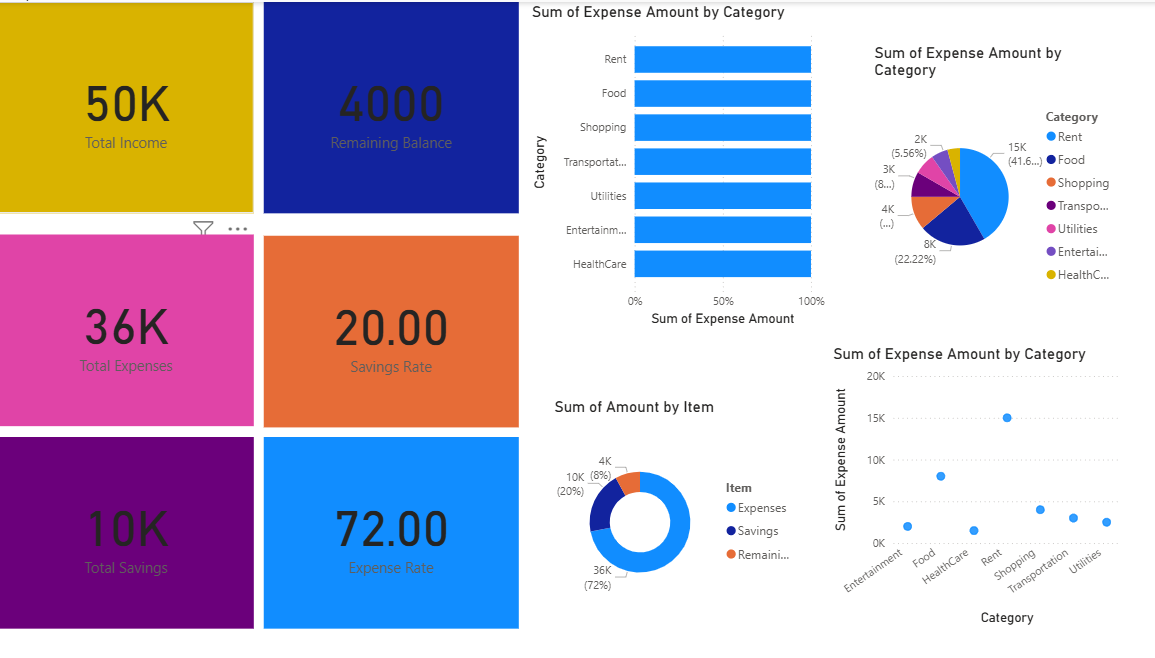

The page's visual inventory and layout, read from the dashboard file:
{"tool":"powerbi","page":{"name":"Page 1","canvas":[1280,720],"ordinal":0},"visuals":[{"type":"card","fields":{"Values":["Sheet1.Total Income"]},"box":[9.8,0,280,232.3],"z":0},{"type":"card","fields":{"Values":["Sheet1.Total Expenses"]},"box":[9.8,255.6,280,210.3],"z":1},{"type":"card","fields":{"Values":["Sheet1.Total Savings"]},"box":[10,478,280,210],"z":2},{"type":"card","fields":{"Values":["Sheet1.Remaining Balance"]},"box":[300,0,280,232],"z":3},{"type":"card","fields":{"Values":["Sheet1.Savings Rate"]},"box":[300,256,280,210],"z":4},{"type":"card","fields":{"Values":["Sheet1.Expense Rate"]},"box":[300,478,280,210],"z":5},{"type":"hundredPercentStackedBarChart","fields":{"Category":["Sheet1.Category"],"Y":["Sum(Sheet1 (3).Expense Amount)"]},"box":[589.4,0,331.4,360.7],"z":6},{"type":"pieChart","fields":{"Category":["Sheet1.Category"],"Y":["Sum(Sheet1 (3).Expense Amount)"]},"box":[966,45.2,280,295.9],"z":7},{"type":"donutChart","fields":{"Y":["Sum(Sheet1 (2).Amount)"],"Category":["Sheet1 (2).Item"]},"box":[615.1,434.1,280,254.3],"z":8},{"type":"scatterChart","fields":{"X":["Sheet1.Category"],"Y":["Sum(Sheet1 (3).Expense Amount)"]},"box":[920.8,375.4,325.3,313],"z":9}]}

Visuals, with their boxes in screenshot pixels (x1, y1, x2, y2), scaled from the page's 1280x720 canvas onto the 1155x658 screenshot:
card - Sheet1.Total Income: <region>9, 0, 261, 212</region>
card - Sheet1.Total Expenses: <region>9, 234, 261, 426</region>
card - Sheet1.Total Savings: <region>9, 437, 262, 629</region>
card - Sheet1.Remaining Balance: <region>271, 0, 523, 212</region>
card - Sheet1.Savings Rate: <region>271, 234, 523, 426</region>
card - Sheet1.Expense Rate: <region>271, 437, 523, 629</region>
hundredPercentStackedBarChart - Sheet1.Category x Sum(Sheet1 (3).Expense Amount): <region>532, 0, 831, 330</region>
pieChart - Sheet1.Category x Sum(Sheet1 (3).Expense Amount): <region>872, 41, 1124, 312</region>
donutChart - Sum(Sheet1 (2).Amount) x Sheet1 (2).Item: <region>555, 397, 808, 629</region>
scatterChart - Sheet1.Category x Sum(Sheet1 (3).Expense Amount): <region>831, 343, 1124, 629</region>
